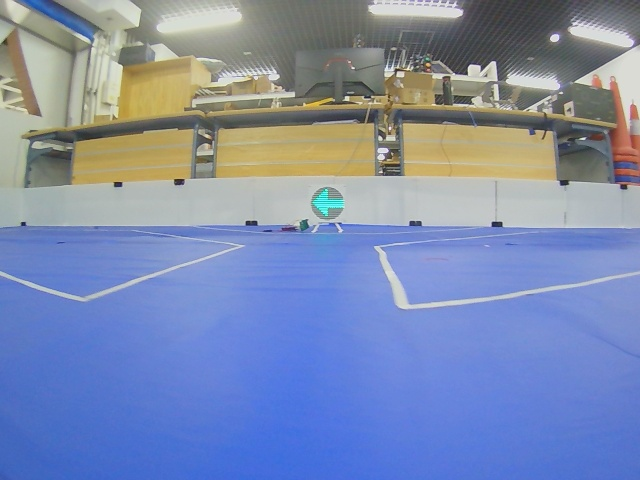left_green: (311, 187, 344, 220)
